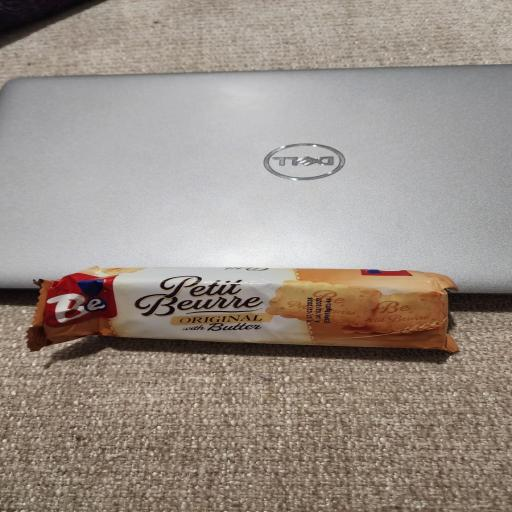petit-beurre: (11, 240, 499, 406)
